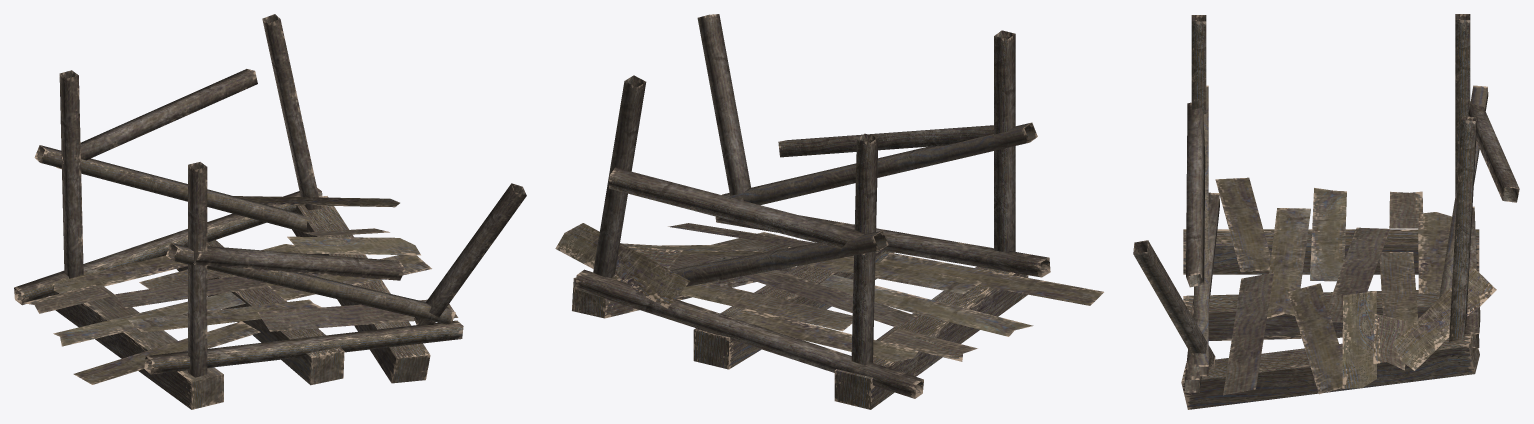
Rendered from Scaffolding_StandaloneBroken.fbx.
3 renders of one model, left to right at view 1: azimuth 30°, elevation 25°; view 2: azimuth 150°, elevation 25°; view 3: azimuth 270°, elevation 25°, orthographic. The views are drawn at different scales.
Visible parts, largest first — view 1: CDTMesh_Scaffolding_StandaloneBroken_LOD; view 2: CDTMesh_Scaffolding_StandaloneBroken_LOD; view 3: CDTMesh_Scaffolding_StandaloneBroken_LOD.
Boxes of the visible parts, left/top/right/bottom form: CDTMesh_Scaffolding_StandaloneBroken_LOD: left=14, top=14, right=526, bottom=409; CDTMesh_Scaffolding_StandaloneBroken_LOD: left=555, top=14, right=1103, bottom=409; CDTMesh_Scaffolding_StandaloneBroken_LOD: left=1133, top=14, right=1519, bottom=409.
Size of what is drawn, in the model's own units: 6.78 by 4.35 by 5.39.
